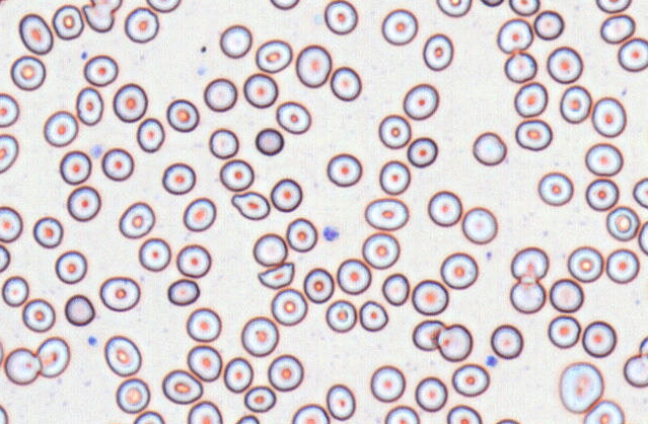PLT: (323, 224, 341, 244), (485, 354, 499, 367), (86, 334, 99, 347)
RBC: (558, 361, 604, 413), (295, 44, 331, 88), (240, 316, 279, 356), (104, 335, 141, 376), (99, 275, 140, 311), (161, 369, 203, 404), (364, 197, 408, 230), (440, 251, 478, 289), (270, 287, 307, 326), (546, 45, 583, 84), (18, 13, 53, 54), (591, 96, 626, 137), (4, 347, 41, 385), (361, 232, 399, 269), (112, 82, 147, 122), (36, 336, 70, 377), (118, 201, 155, 238), (402, 83, 439, 120), (381, 8, 418, 45), (436, 323, 472, 361), (369, 364, 405, 402), (461, 206, 497, 244), (186, 344, 222, 381), (267, 354, 303, 391), (496, 17, 533, 53), (411, 279, 448, 315), (567, 245, 603, 282), (584, 142, 623, 176), (124, 6, 159, 43), (581, 320, 616, 357), (255, 38, 292, 73), (43, 110, 78, 147), (451, 363, 489, 397), (185, 307, 221, 342), (115, 377, 150, 413), (10, 54, 45, 90), (66, 185, 101, 221), (513, 81, 548, 117), (336, 258, 371, 294), (243, 72, 278, 108), (326, 152, 362, 187), (427, 190, 462, 226), (537, 171, 573, 206), (514, 118, 552, 151), (176, 243, 211, 278), (605, 205, 639, 241), (605, 248, 639, 284), (275, 100, 311, 134), (559, 85, 591, 123), (549, 278, 584, 312), (252, 232, 287, 266), (472, 131, 506, 166), (203, 77, 237, 112), (509, 280, 545, 313), (51, 4, 84, 40), (414, 376, 447, 412), (490, 323, 523, 359), (378, 113, 411, 149), (422, 33, 453, 71), (21, 298, 55, 332), (323, 0, 357, 34), (182, 197, 216, 231), (219, 158, 254, 191), (161, 162, 196, 195), (378, 159, 410, 195), (547, 314, 580, 348), (138, 237, 171, 271), (219, 24, 252, 58), (54, 250, 87, 284), (101, 147, 134, 181), (585, 178, 619, 211), (166, 98, 199, 132), (83, 54, 118, 86), (270, 177, 302, 212), (285, 217, 317, 252), (303, 267, 334, 303), (223, 356, 253, 393), (325, 383, 355, 420), (75, 86, 103, 125), (59, 150, 91, 184), (600, 13, 635, 44), (330, 66, 361, 101), (504, 51, 537, 83), (617, 37, 647, 72), (64, 293, 95, 326), (325, 299, 356, 332), (582, 399, 624, 423), (208, 127, 239, 159), (32, 216, 63, 248), (136, 117, 164, 152), (533, 9, 564, 40), (358, 300, 388, 331), (407, 136, 437, 167), (82, 3, 114, 32), (381, 272, 409, 305), (167, 278, 199, 306), (243, 385, 276, 412), (1, 275, 29, 306), (623, 353, 647, 387), (0, 205, 22, 242), (255, 127, 284, 155), (187, 400, 222, 423), (291, 403, 329, 423), (0, 133, 18, 173), (446, 404, 482, 423), (0, 92, 19, 127), (384, 405, 420, 423), (436, 0, 471, 17), (508, 0, 539, 16), (632, 176, 647, 208), (595, 0, 631, 13), (146, 0, 181, 12), (90, 0, 122, 13), (133, 410, 164, 423), (638, 220, 647, 255), (269, 0, 299, 10), (0, 243, 10, 272), (235, 414, 259, 423), (639, 335, 647, 359), (479, 0, 504, 7), (494, 417, 520, 423), (0, 404, 8, 423), (0, 339, 4, 367)
Schistocyte: (511, 246, 549, 279), (231, 190, 271, 221), (257, 262, 295, 291), (411, 320, 444, 352)
